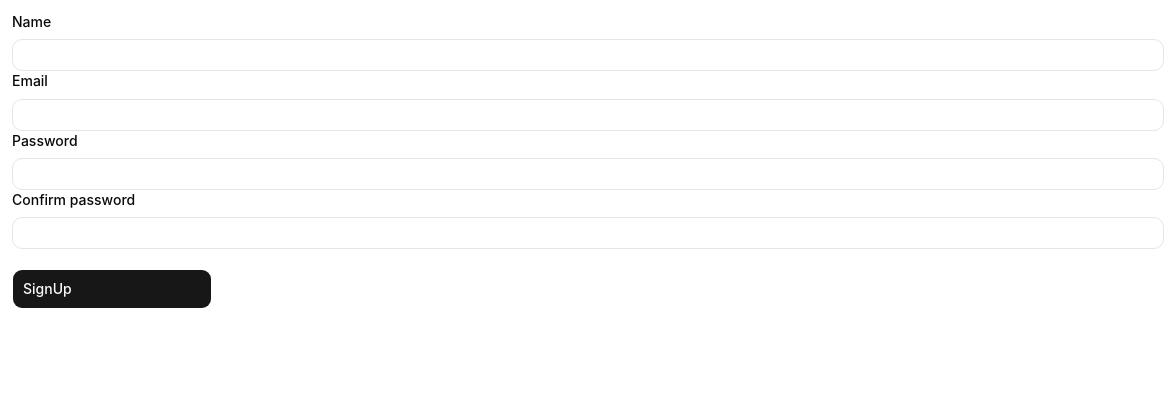
Test case: SignupForm › should render validation errors when empty fields submited
Click the button "SignUp": (112, 289) [12,269,212,309]
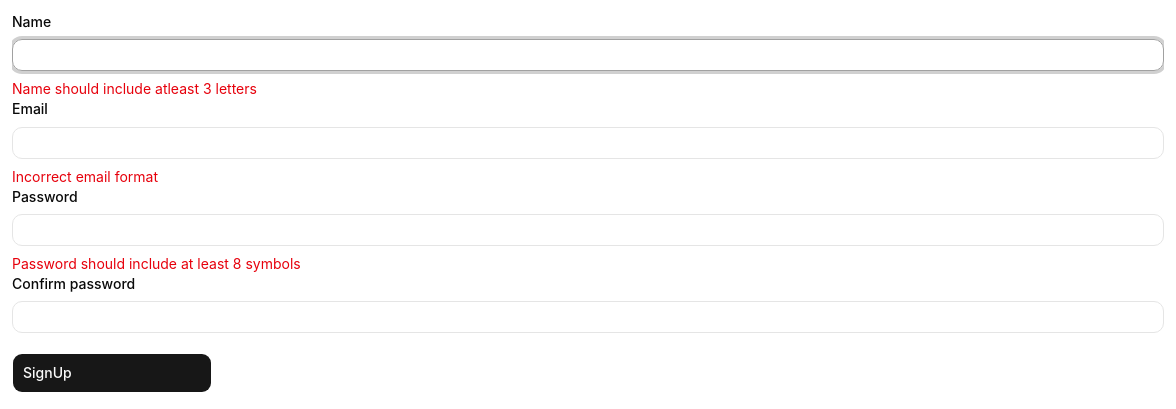
Result: the text "Name should include atleast 3 letters" is shown at [12,80,257,97]
Result: the text "Incorrect email format" is shown at [12,168,158,184]
Result: the text "Password should include at least 8 symbols" is shown at [12,255,301,272]
